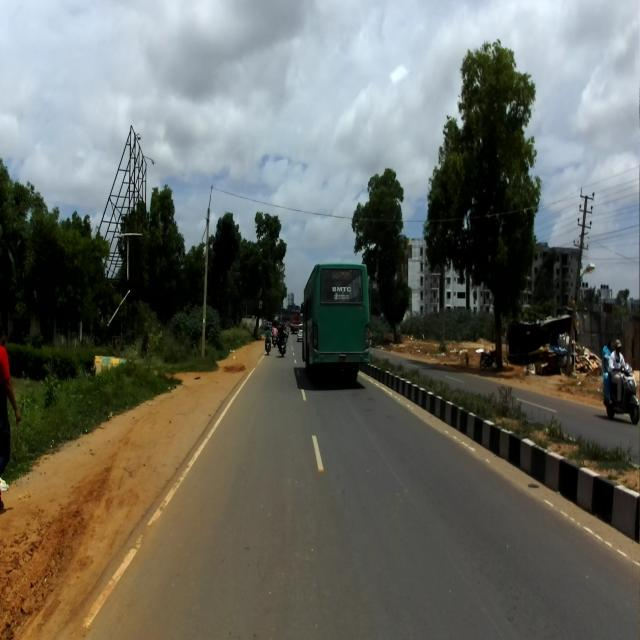car: (299, 262, 370, 387)
scooter: (601, 356, 639, 426)
